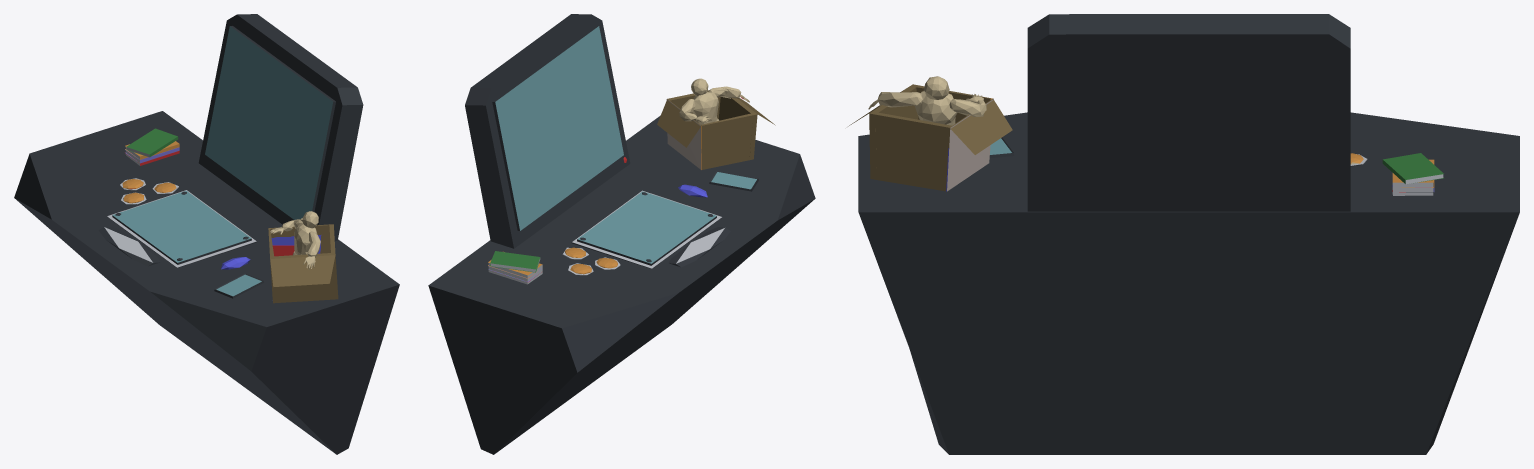
Rendered from terminal.fbx.
The picture shows the model from 3 angles, left to right: view 1: azimuth 30°, elevation 25°; view 2: azimuth 150°, elevation 25°; view 3: azimuth 270°, elevation 25°; orthographic projection. The views are drawn at different scales.
Parts seen in each view (by area): view 1: Цилиндр.002; view 2: Цилиндр.002; view 3: Цилиндр.002.
Boxes of the visible parts, x1,y1,x2,y2 form: Цилиндр.002: (14, 14, 399, 454); Цилиндр.002: (428, 14, 815, 454); Цилиндр.002: (848, 14, 1519, 454).
Size of the model in its own units: 256 by 388 by 519.
